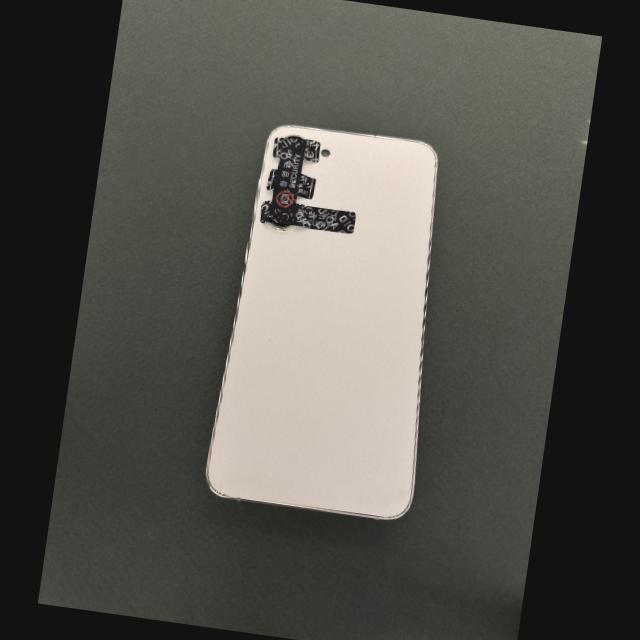lens: (268, 223, 294, 231), (284, 135, 305, 139)
phone: (207, 125, 437, 519)
sticker: (268, 138, 306, 224), (292, 205, 356, 234), (297, 175, 315, 199), (304, 140, 320, 163)
